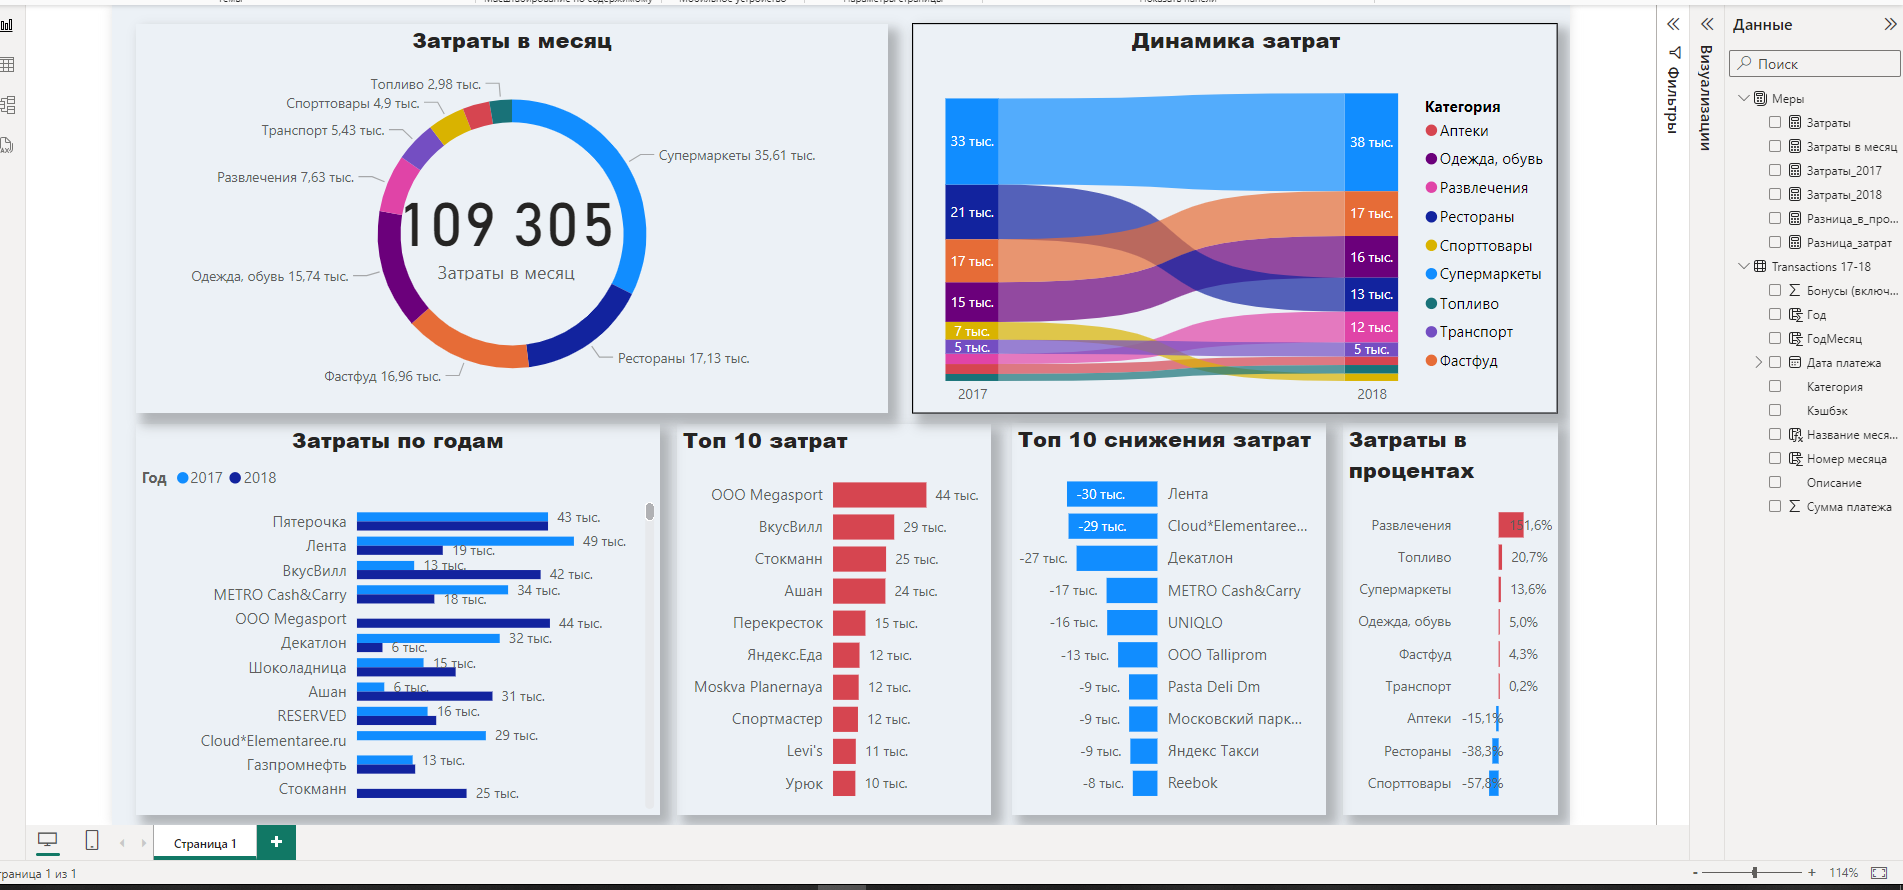

The page's visual inventory and layout, read from the dashboard file:
{"tool":"powerbi","page":{"name":"Страница 1","canvas":[1280,720],"ordinal":0},"visuals":[{"type":"donutChart","title":"Затраты в месяц","fields":{"Category":["Transactions 17-18.Категория"],"Y":["Меры.Затраты в месяц"]},"box":[21.1,16.7,660.3,341.6],"z":0,"group":"g1"},{"type":"ribbonChart","title":"Динамика затрат","fields":{"Y":["Меры.Затраты в месяц"],"Series":["Transactions 17-18.Категория"],"Category":["Transactions 17-18.Год"]},"box":[702.4,15.8,567.2,343.3],"z":0},{"type":"card","fields":{"Values":["Меры.Затраты в месяц"]},"box":[231.6,145.7,228.7,101.4],"z":1000,"group":"g1"},{"type":"clusteredBarChart","title":"Затраты в процентах","fields":{"Category":["Transactions 17-18.Категория"],"Y":["Меры.Разница_в_процентах"]},"box":[1080.9,367,188.8,344.2],"z":1000},{"type":"clusteredBarChart","title":"Затраты по годам","fields":{"Y":["Меры.Затраты"],"Category":["Transactions 17-18.Описание"],"Series":["Transactions 17-18.Год"]},"box":[21.1,367.9,460.1,343.3],"z":2000},{"type":"clusteredBarChart","title":"Топ 10 затрат","fields":{"Y":["Меры.Разница_затрат"],"Category":["Transactions 17-18.Описание"]},"box":[496.1,367.9,275.7,343.3],"z":3000},{"type":"group","id":"g1","title":"Группа 1","box":[21.1,16.7,660.3,341.6],"z":4000},{"type":"clusteredBarChart","title":"Топ 10 снижения затрат","fields":{"Y":["Меры.Разница_затрат"],"Category":["Transactions 17-18.Описание"]},"box":[790.2,367,275.7,344.2],"z":5000}]}

Visuals, with their boxes on the page's 1280x720 design canvas (x1, y1, x2, y2). These are canvas units, not pixel positions in the 1903x890 screenshot, which may show the page scaled, cropped or inside an application window:
"Затраты в месяц" donutChart: bbox(21, 17, 681, 358)
"Динамика затрат" ribbonChart: bbox(702, 16, 1270, 359)
card - Меры.Затраты в месяц: bbox(232, 146, 460, 247)
"Затраты в процентах" clusteredBarChart: bbox(1081, 367, 1270, 711)
"Затраты по годам" clusteredBarChart: bbox(21, 368, 481, 711)
"Топ 10 затрат" clusteredBarChart: bbox(496, 368, 772, 711)
"Группа 1" group: bbox(21, 17, 681, 358)
"Топ 10 снижения затрат" clusteredBarChart: bbox(790, 367, 1066, 711)
